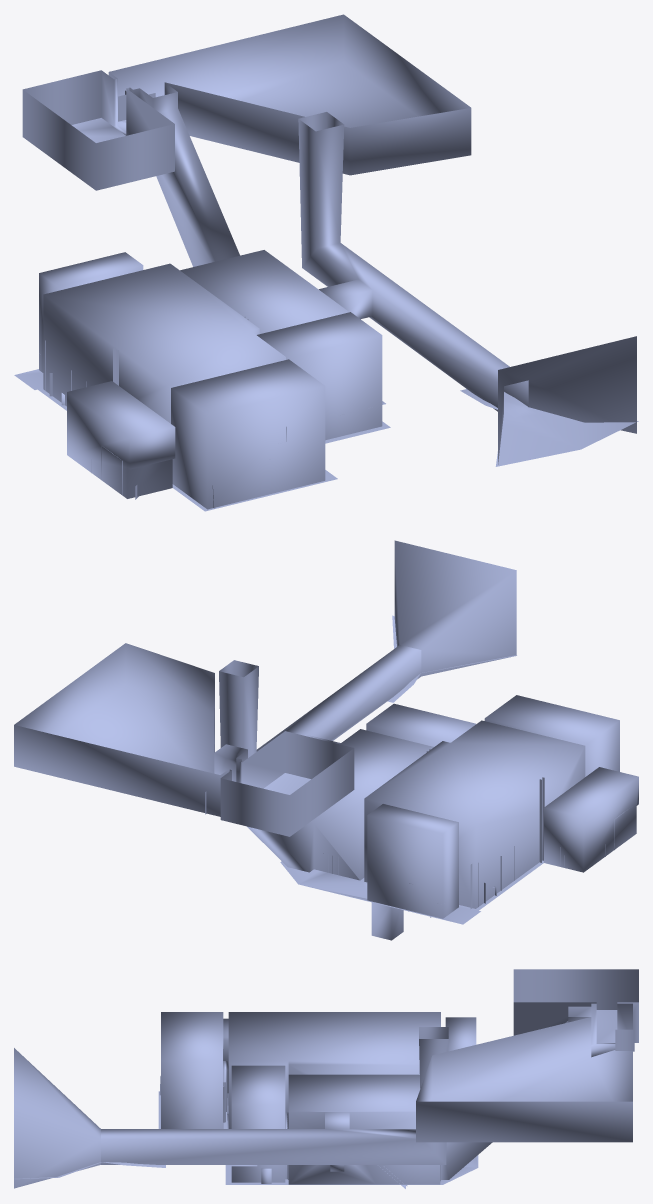
Rendered from Colliders.fbx.
The picture shows the model from 3 angles, top to bottom: view 1: azimuth 30°, elevation 25°; view 2: azimuth 150°, elevation 25°; view 3: azimuth 270°, elevation 25°; orthographic projection. The views are drawn at different scales.
Parts seen in each view (by area): view 1: Concrete, Snow_nn, Snow; view 2: Concrete, Snow; view 3: Concrete, Snow.
Boxes of the visible parts, x1,y1,x2,y2 form: Concrete: (14,14,636,511); Snow_nn: (460,389,638,466); Snow: (71,118,125,142); Concrete: (14,540,638,940); Snow: (264,773,310,794); Concrete: (14,969,638,1188); Snow: (596,1010,617,1042).
Size of the model in its own units: 2133 by 1078 by 2923.
